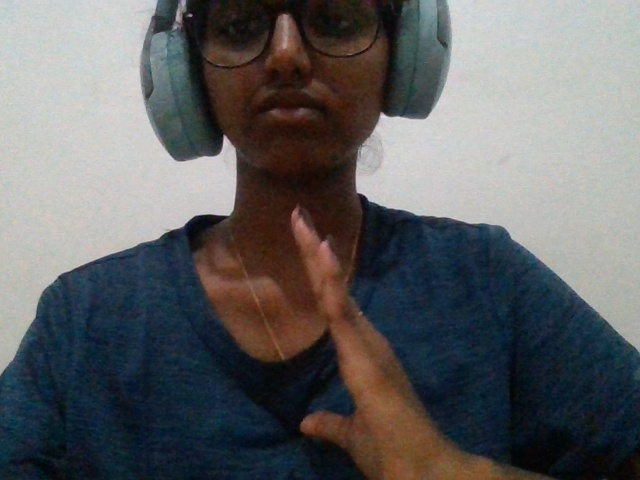Fine: (247, 192, 497, 480)
